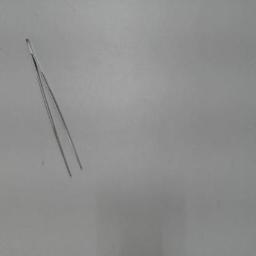Gillies Toothed Dissector: (22, 30, 88, 184)
